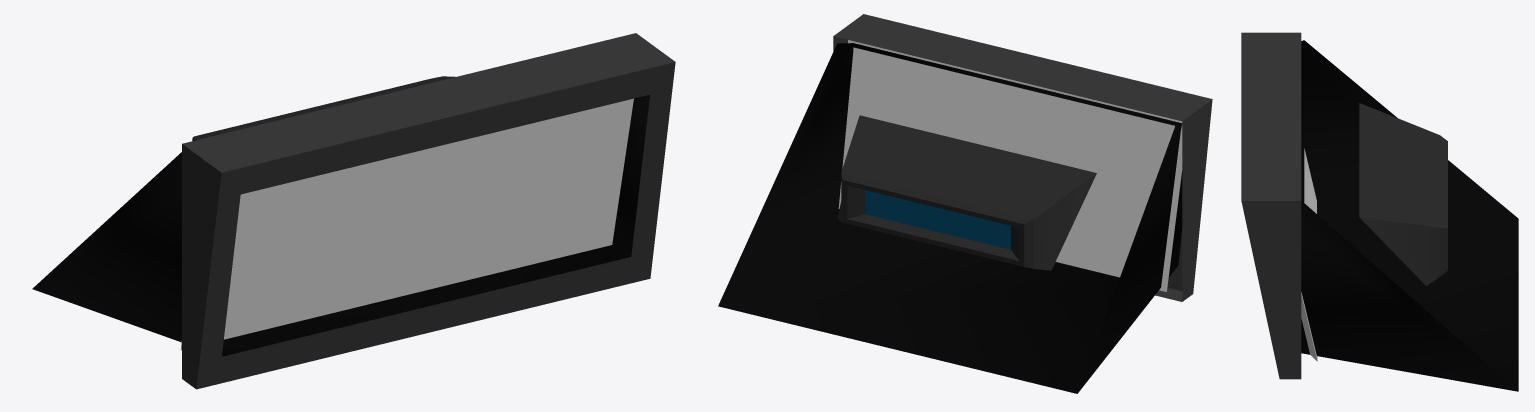
Rendered from TankDriverVisor45d2x1.fbx.
3 views of the same model, side by side, from view 1: azimuth 30°, elevation 25°; view 2: azimuth 150°, elevation 25°; view 3: azimuth 270°, elevation 25° (orthographic). The views are drawn at different scales.
Parts seen in each view (by area): view 1: Cube.002, Cube.001; view 2: Cube.002, Cube.001; view 3: Cube.002, Cube.001.
Boxes of the visible parts, x1,y1,x2,y2 form: Cube.002: (32,33,675,389); Cube.001: (180,98,633,350); Cube.002: (718,14,1212,393); Cube.001: (838,40,1182,291); Cube.002: (1241,32,1518,391); Cube.001: (1301,148,1317,361).
Bounding box in the file's own units: 2 × 1.27 × 1.
